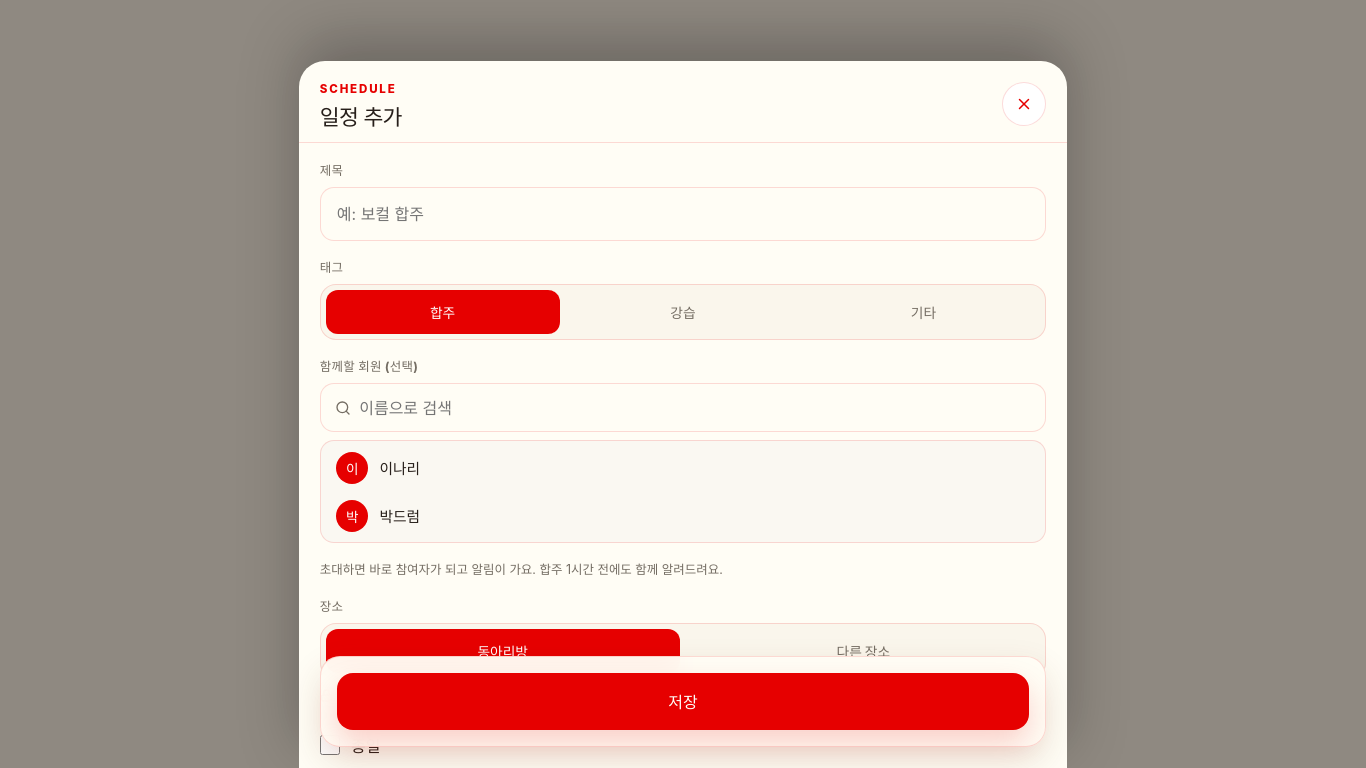
Scenario: EntrySheet 추가 › 입력 검증 오류는 저장 전에 사용자 문구로 알린다
Click the button "저장" at (683, 702), box [337,673,1029,730]
(page scrolled)
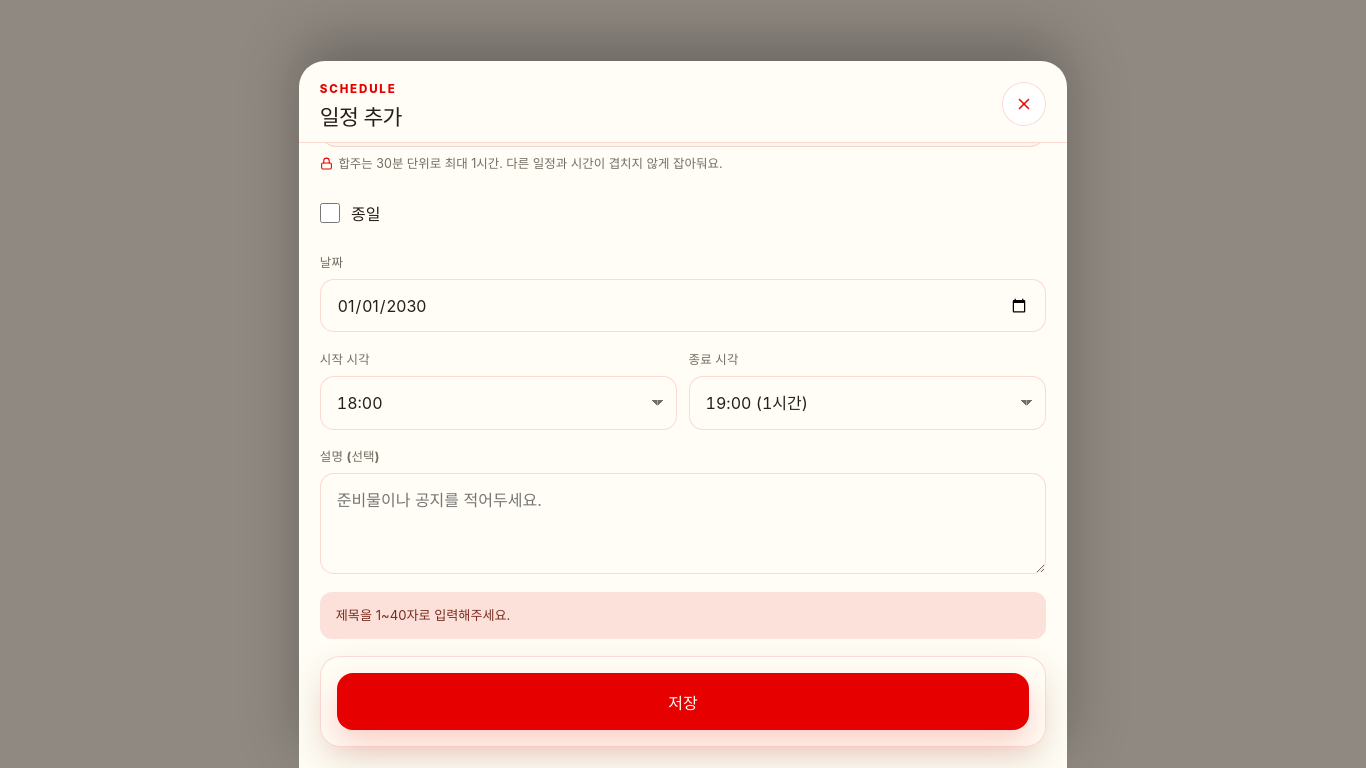
Expected: the message reads "제목을 1~40자로 입력해주세요.", [336,606,510,622]
Type "메모" into the text box labelled "설명 (선택)" at (683, 524), box [320,473,1046,574]
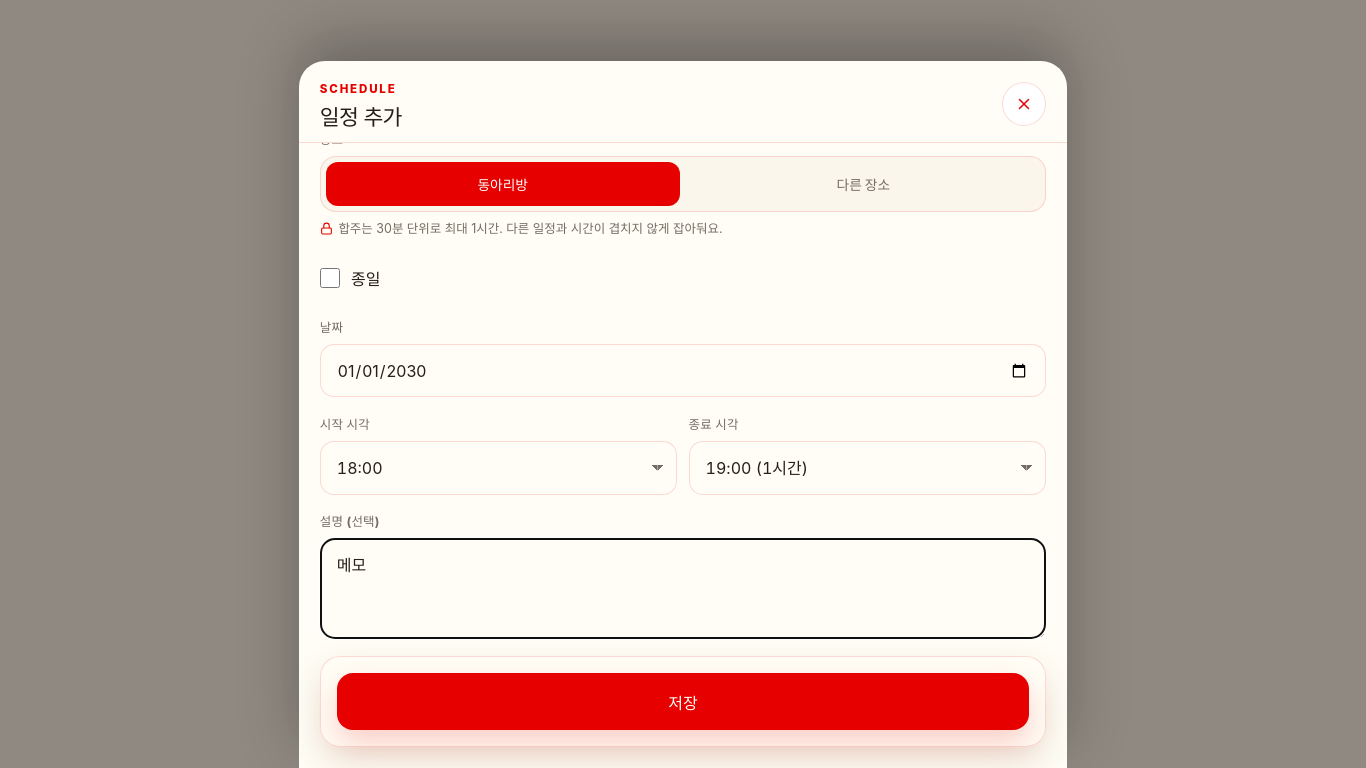
Expected: the message "제목을 1~40자로 입력해주세요." is gone
